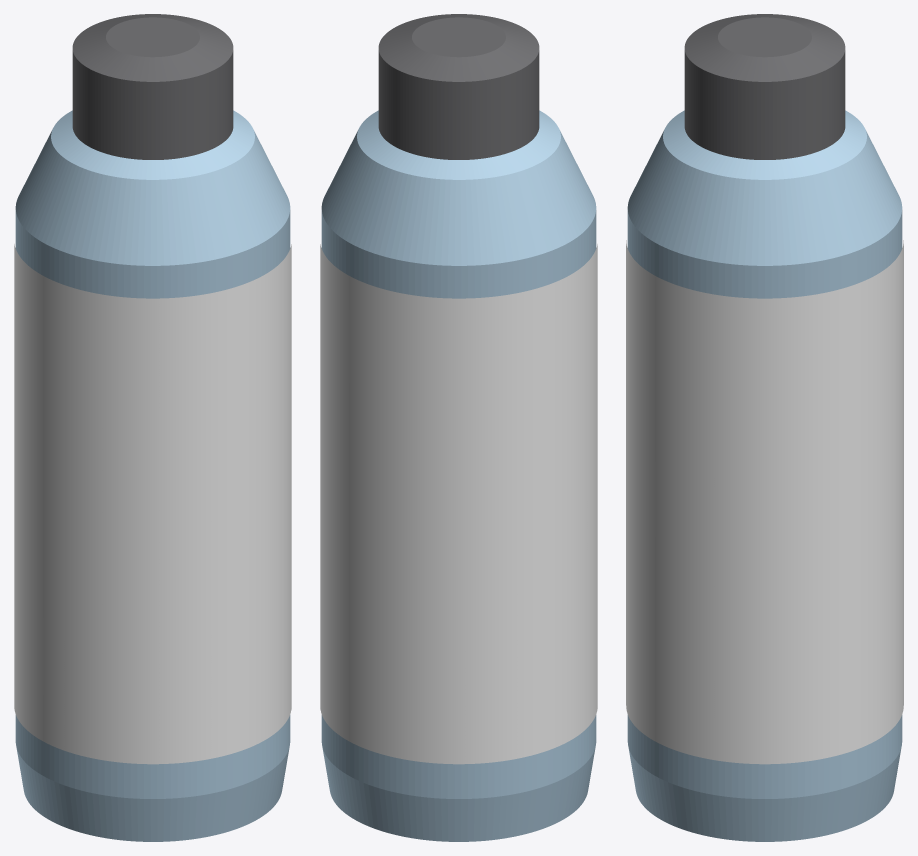
Rendered from water-bottle-customizable.glb.
3 views of the same model, side by side, from view 1: azimuth 30°, elevation 25°; view 2: azimuth 150°, elevation 25°; view 3: azimuth 270°, elevation 25° (orthographic).
Visible parts, largest first — view 1: LABEL_PRINT, BODY, CAP; view 2: LABEL_PRINT, BODY, CAP; view 3: LABEL_PRINT, BODY, CAP.
Boxes of the visible parts, x1,y1,x2,y2 form: LABEL_PRINT: (14, 244, 291, 764); BODY: (15, 110, 290, 841); CAP: (72, 14, 233, 159); LABEL_PRINT: (320, 244, 597, 764); BODY: (321, 110, 596, 841); CAP: (378, 14, 539, 159); LABEL_PRINT: (626, 240, 903, 764); BODY: (627, 110, 902, 841); CAP: (684, 14, 845, 159).
Size of the model in its own units: 7.08 by 21.3 by 7.08.
